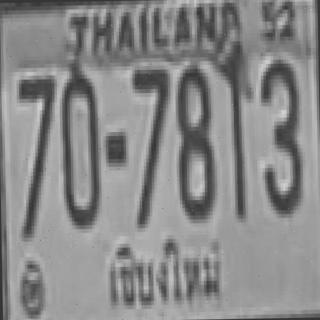N00: (59, 67, 99, 225)
N03: (258, 56, 301, 210)
N07: (130, 66, 170, 220), (16, 75, 54, 234), (130, 66, 169, 174), (130, 66, 169, 162)
N08: (175, 63, 213, 218)
P11: (100, 234, 233, 314)
